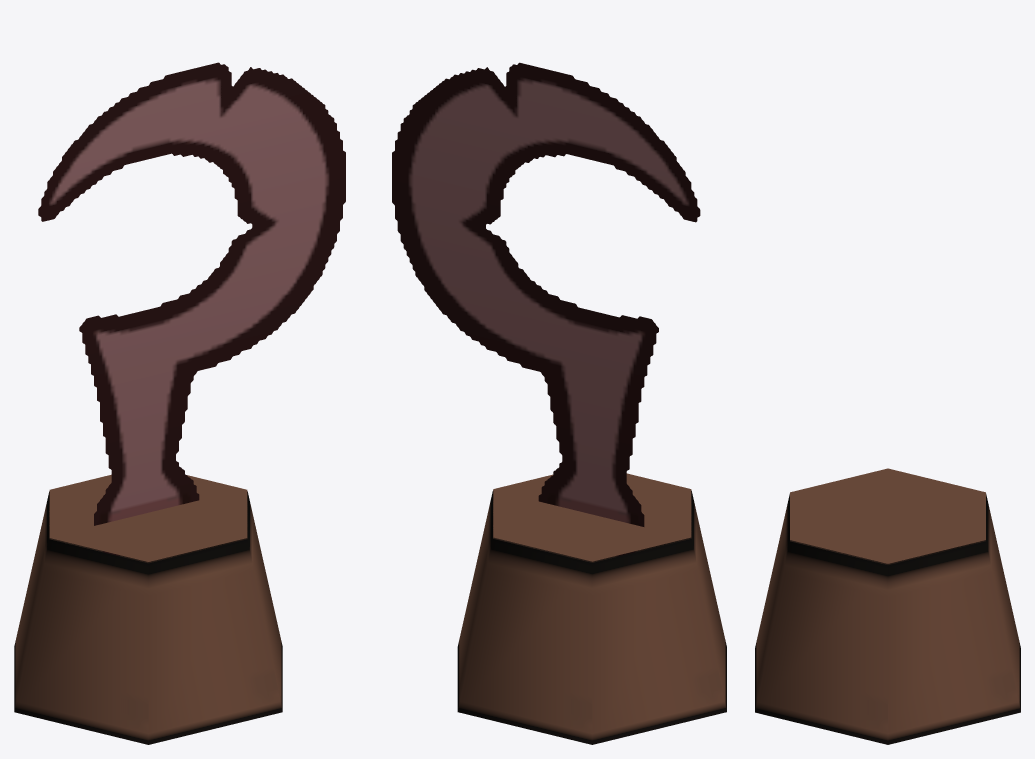
File: c_buki4.dae
3 renders of one model, left to right at view 1: azimuth 30°, elevation 25°; view 2: azimuth 150°, elevation 25°; view 3: azimuth 270°, elevation 25°, orthographic.
Parts seen in each view (by area): view 1: dai1_base_pPlane61, dai1_base_pCylinder8, dai1_base_pPlane53; view 2: dai1_base_pPlane61, dai1_base_pCylinder8, dai1_base_pPlane53; view 3: dai1_base_pCylinder8.
Part boxes in pixels (x1,y1,x2,y2): dai1_base_pPlane61: (38, 62, 345, 555); dai1_base_pCylinder8: (14, 474, 282, 744); dai1_base_pPlane53: (41, 62, 345, 524); dai1_base_pPlane61: (392, 62, 700, 556); dai1_base_pCylinder8: (457, 473, 726, 744); dai1_base_pPlane53: (392, 63, 699, 526); dai1_base_pCylinder8: (755, 468, 1020, 744).
Size of the model in its own units: 20.22 by 34.73 by 13.76.
Materials: 3 (3 with a texture image).
